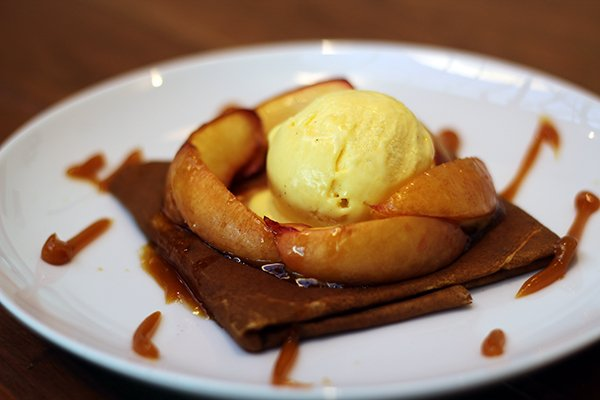salad: (514, 189, 599, 298)
